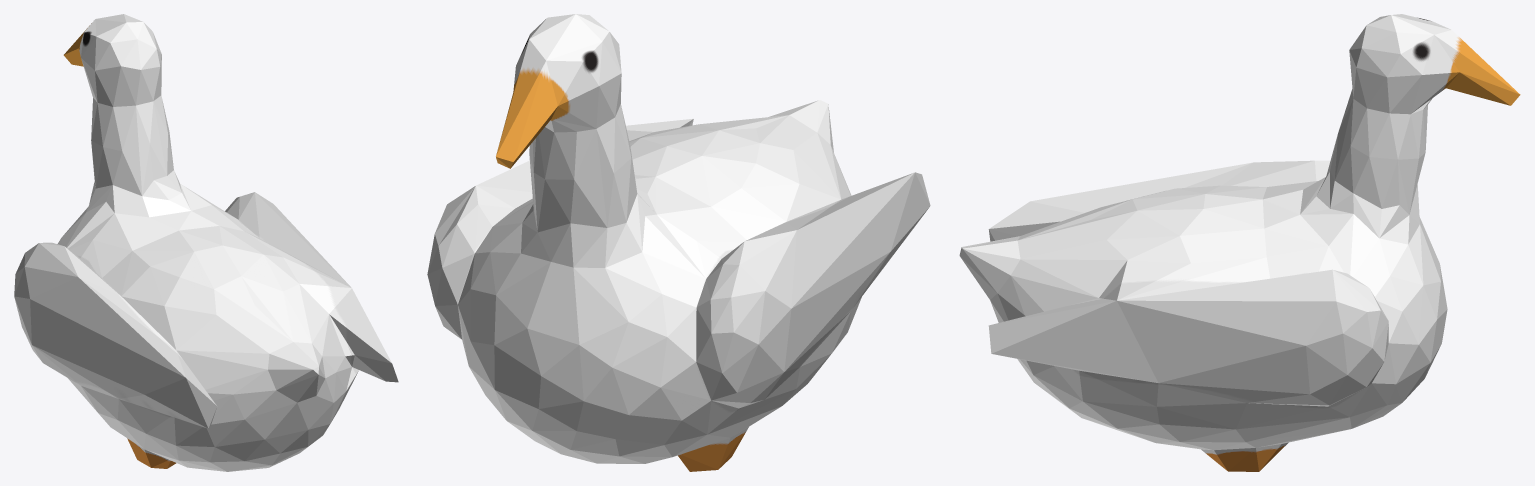
The model's file is animal_goose_blob.obj.
3 renders of one model, left to right at view 1: azimuth 30°, elevation 25°; view 2: azimuth 150°, elevation 25°; view 3: azimuth 270°, elevation 25°, orthographic. The views are drawn at different scales.
Parts seen in each view (by area): view 1: animal_goose_blob; view 2: animal_goose_blob; view 3: animal_goose_blob.
Part boxes in pixels (x1,y1,x2,y2): animal_goose_blob: [14, 14, 398, 471]; animal_goose_blob: [427, 14, 930, 471]; animal_goose_blob: [959, 14, 1520, 471].
Bounding box in the file's own units: 0.5871 × 0.8284 × 0.9621.
